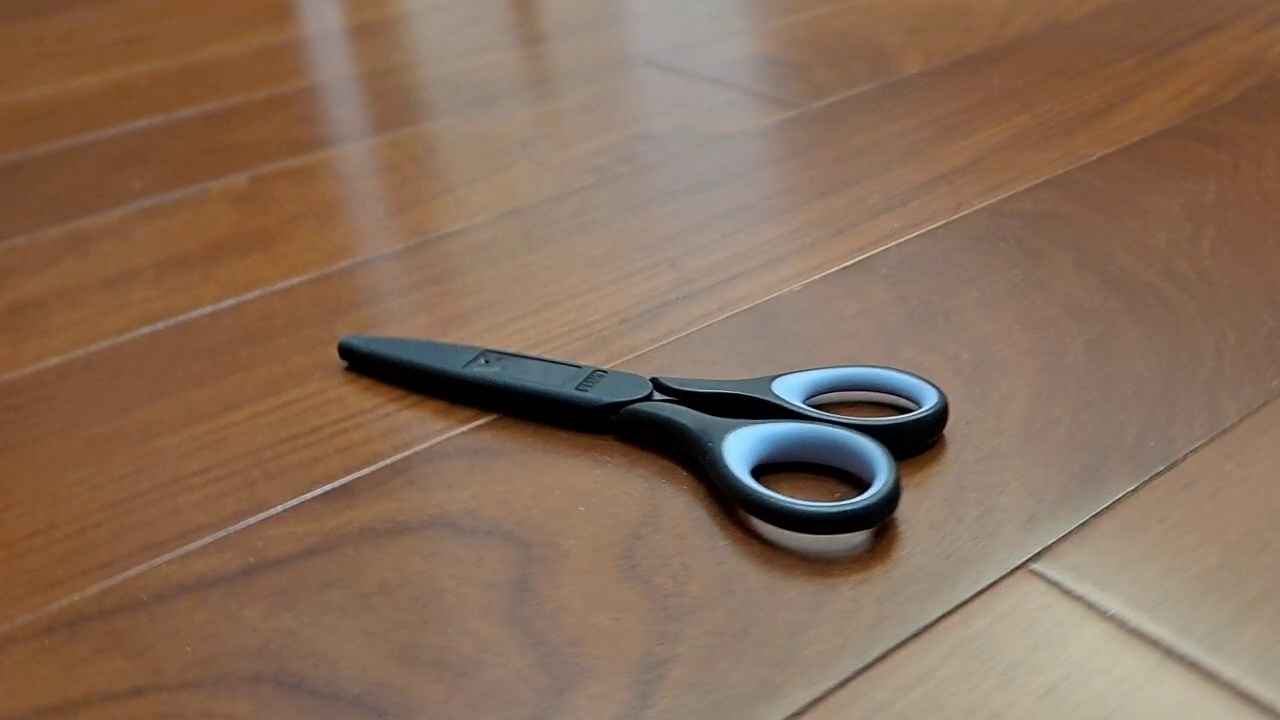scissors: (335, 332, 950, 537)
